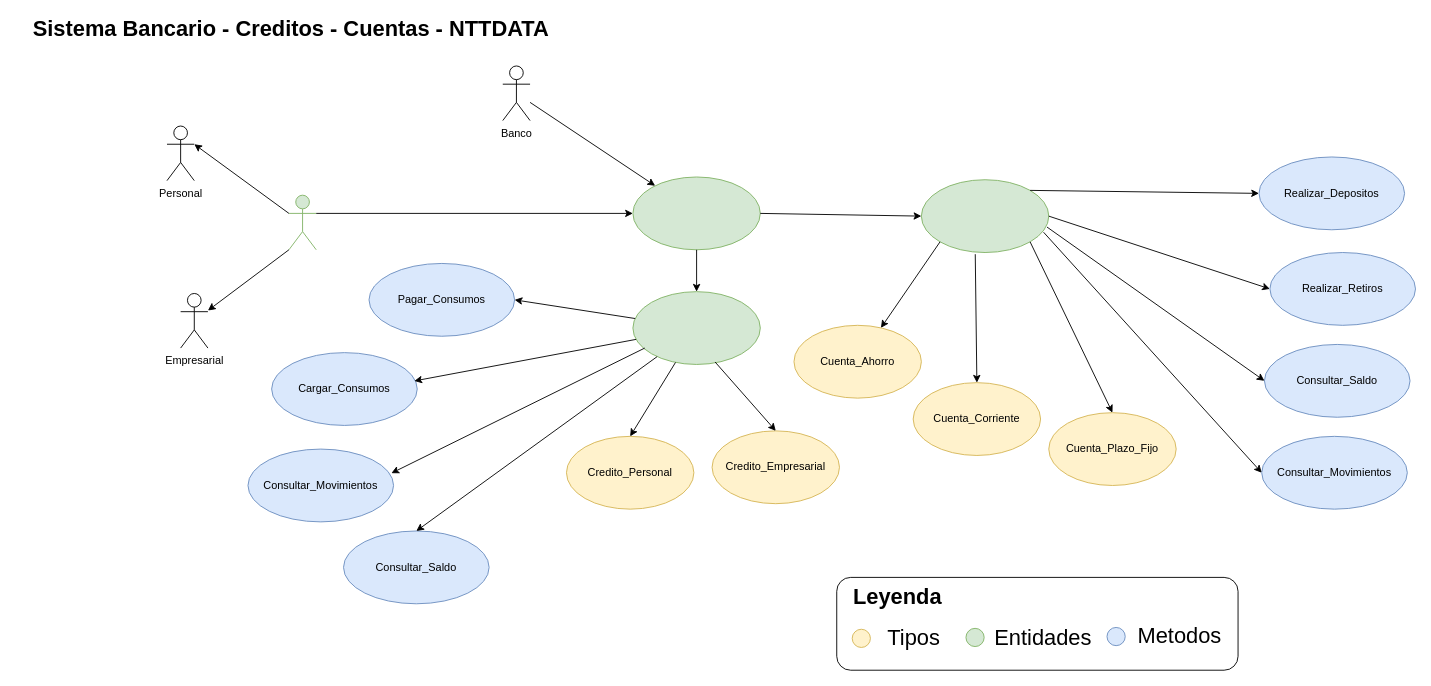
The diagram is 1431 pixels wide and 686 high, and some of its shapes have lost their labels. Each missing label, with the centre of its shape:
"Cliente" belongs at pixel 302 222.
"Creditos" belongs at pixel 696 327.
"Cuentas" belongs at pixel 984 216.
"Producto_Bancario" belongs at pixel 696 213.
